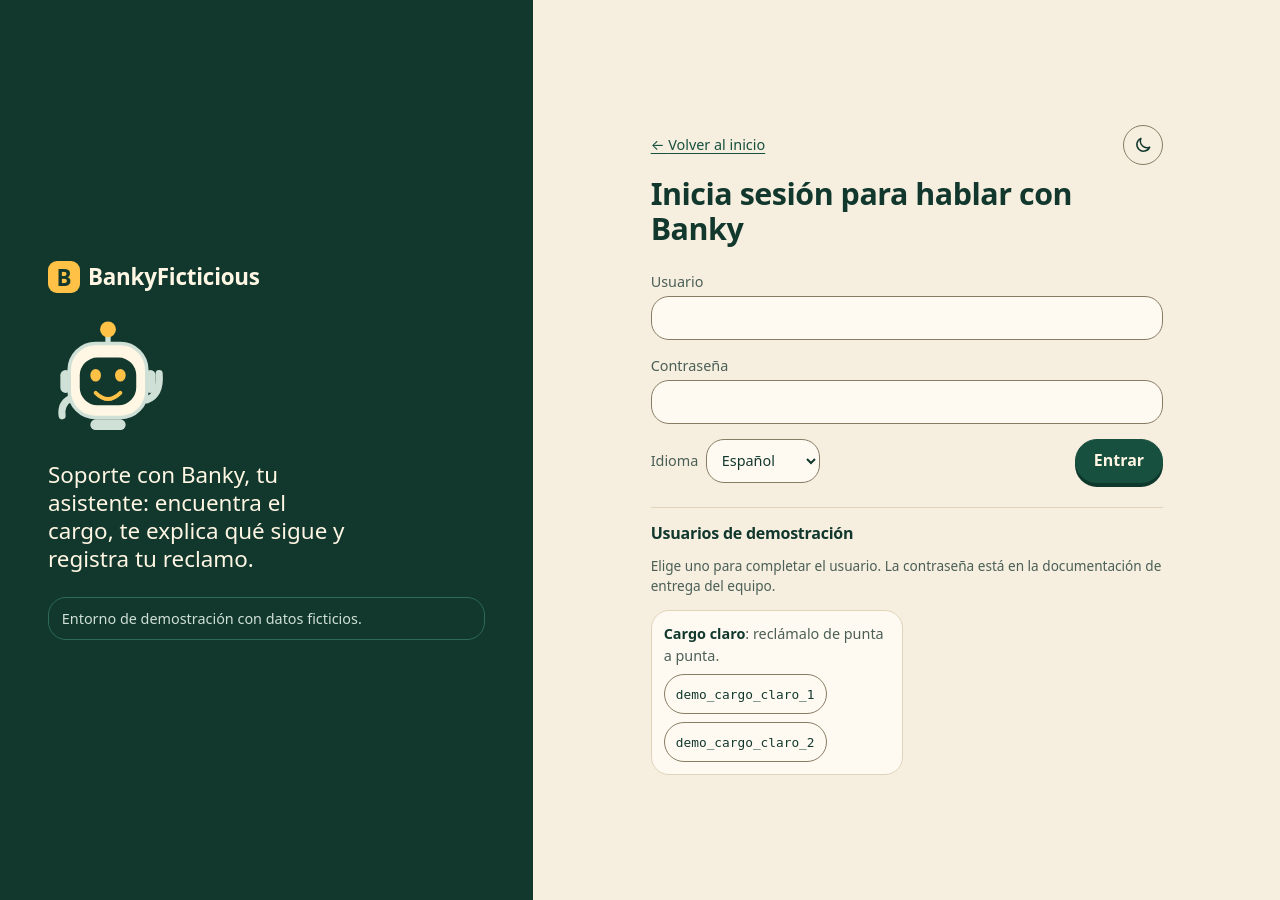
Scenario: LoginPage in demo mode › shows the demo notice and the customer cards with their scenario, and says where the password is documented
Expected: the number of list items with class "demo-group" is 1, [651,610,903,775]
Expected: the button with aria-label "Cargo claro: demo_cargo_claro_2" is shown, [664,722,827,762]
Click the button with aria-label "Cargo claro: demo_cargo_claro_1".
click(745, 694)  # box [664,674,827,714]
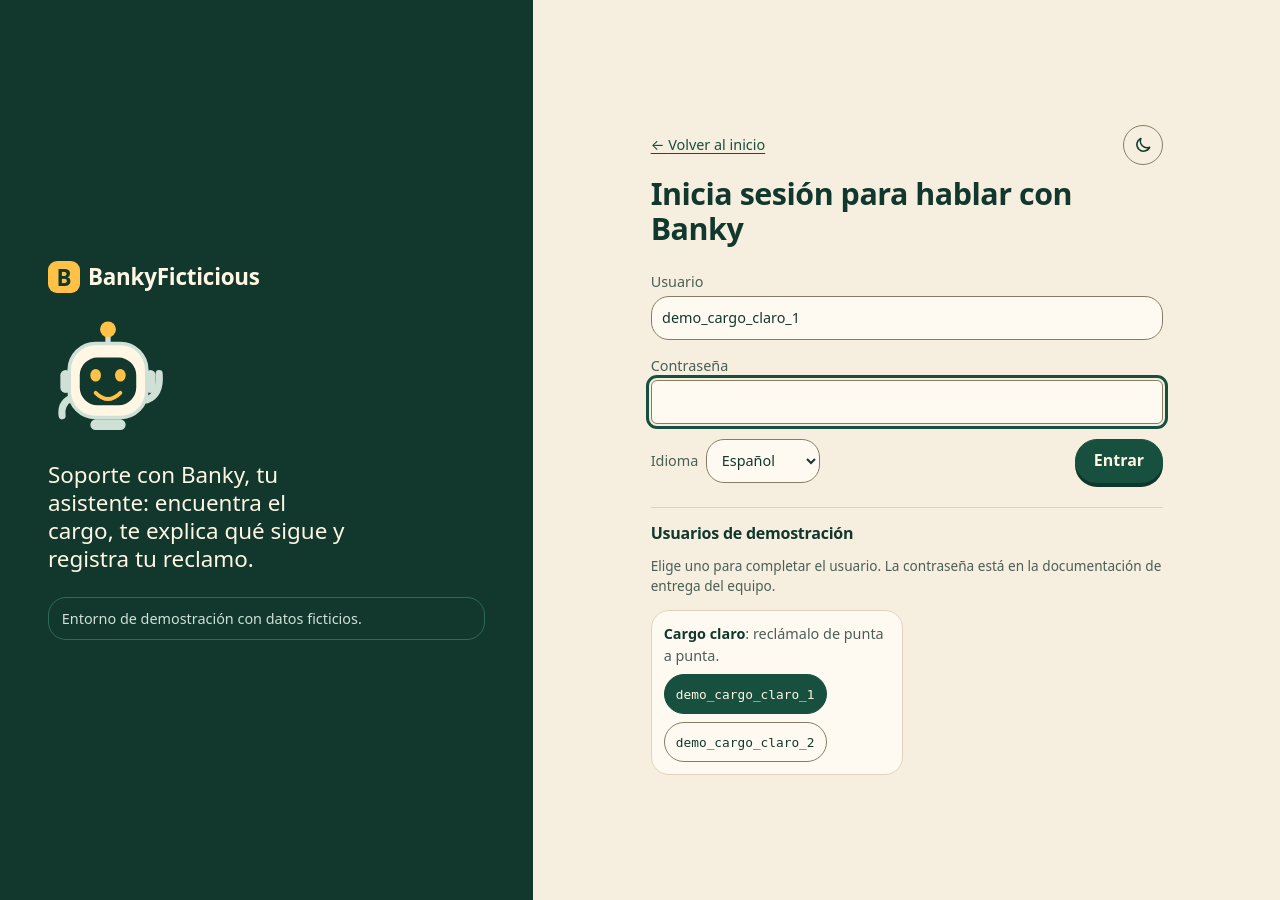
Expected: the password field labelled "Contraseña" is empty, [651,380,1163,424]
Now the field labelled "Usuario" holds "demo_cargo_claro_1", box [651,296,1163,340]
